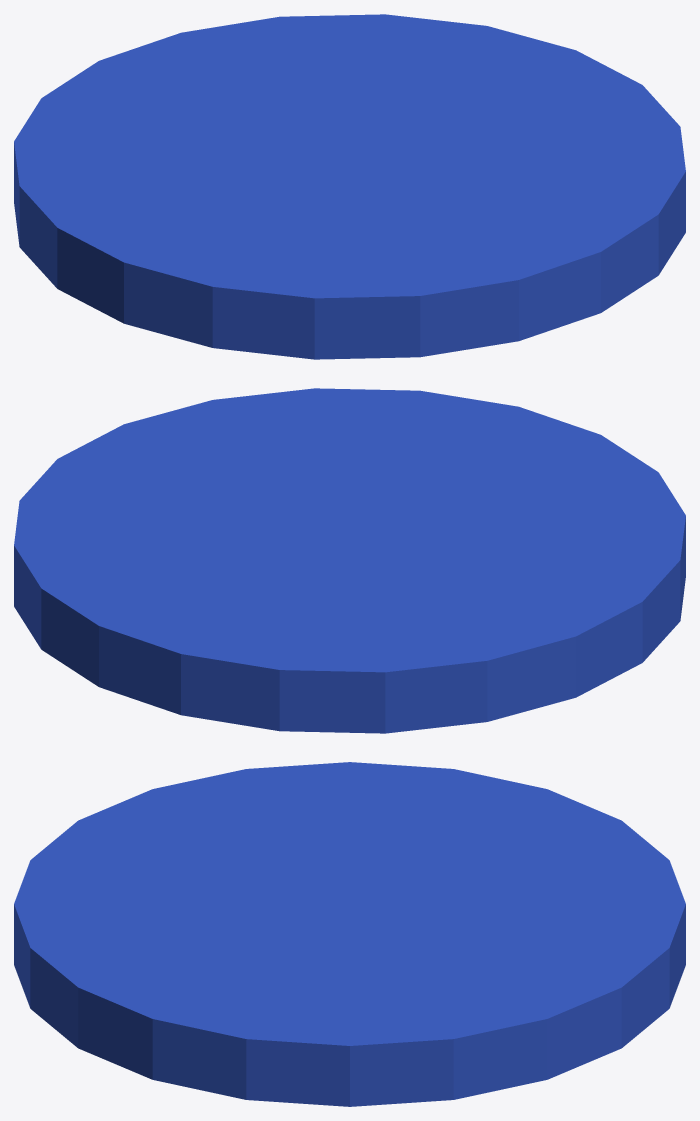
Rendered from SpaceCore.fbx.
3 views of the same model, one above another, from view 1: azimuth 30°, elevation 25°; view 2: azimuth 150°, elevation 25°; view 3: azimuth 270°, elevation 25° (orthographic).
Visible parts, largest first — view 1: Circle; view 2: Circle; view 3: Circle.
Boxes of the visible parts, box(x1,y1,x2,y2) form: Circle: box(14, 14, 685, 359); Circle: box(14, 388, 685, 733); Circle: box(14, 762, 685, 1106).
Bounding box in the file's own units: 200 × 20 × 200.
1 material, 1 textured.
